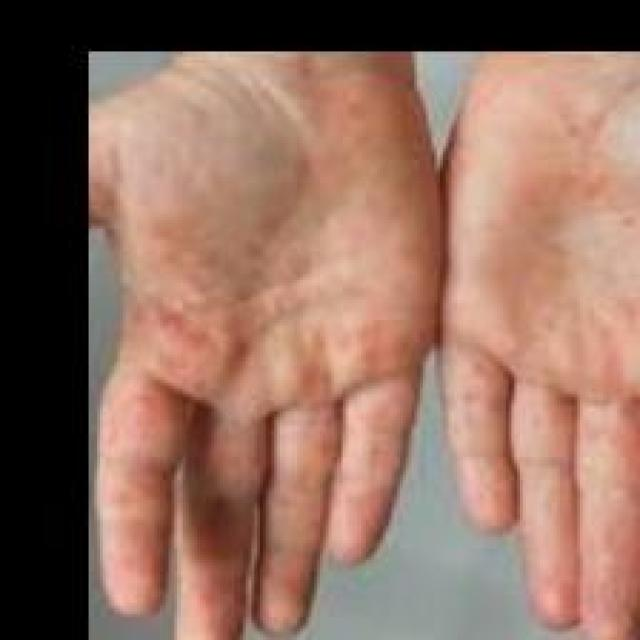others: (94, 49, 640, 637)
